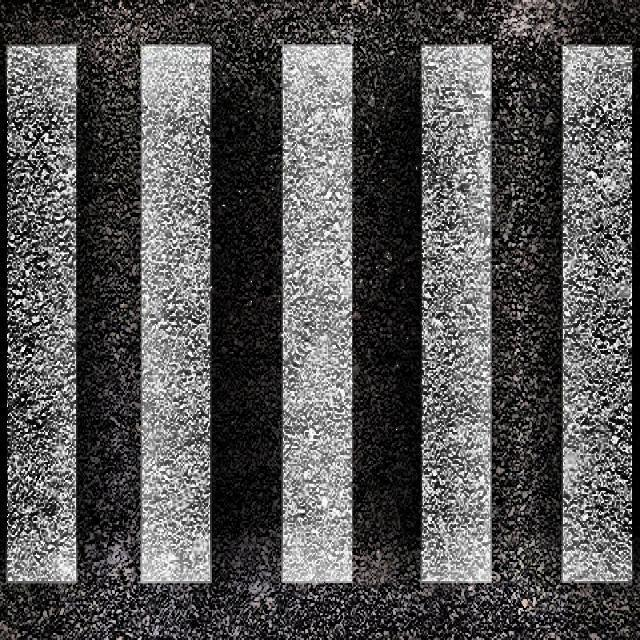crosswalk: (7, 46, 633, 588)
